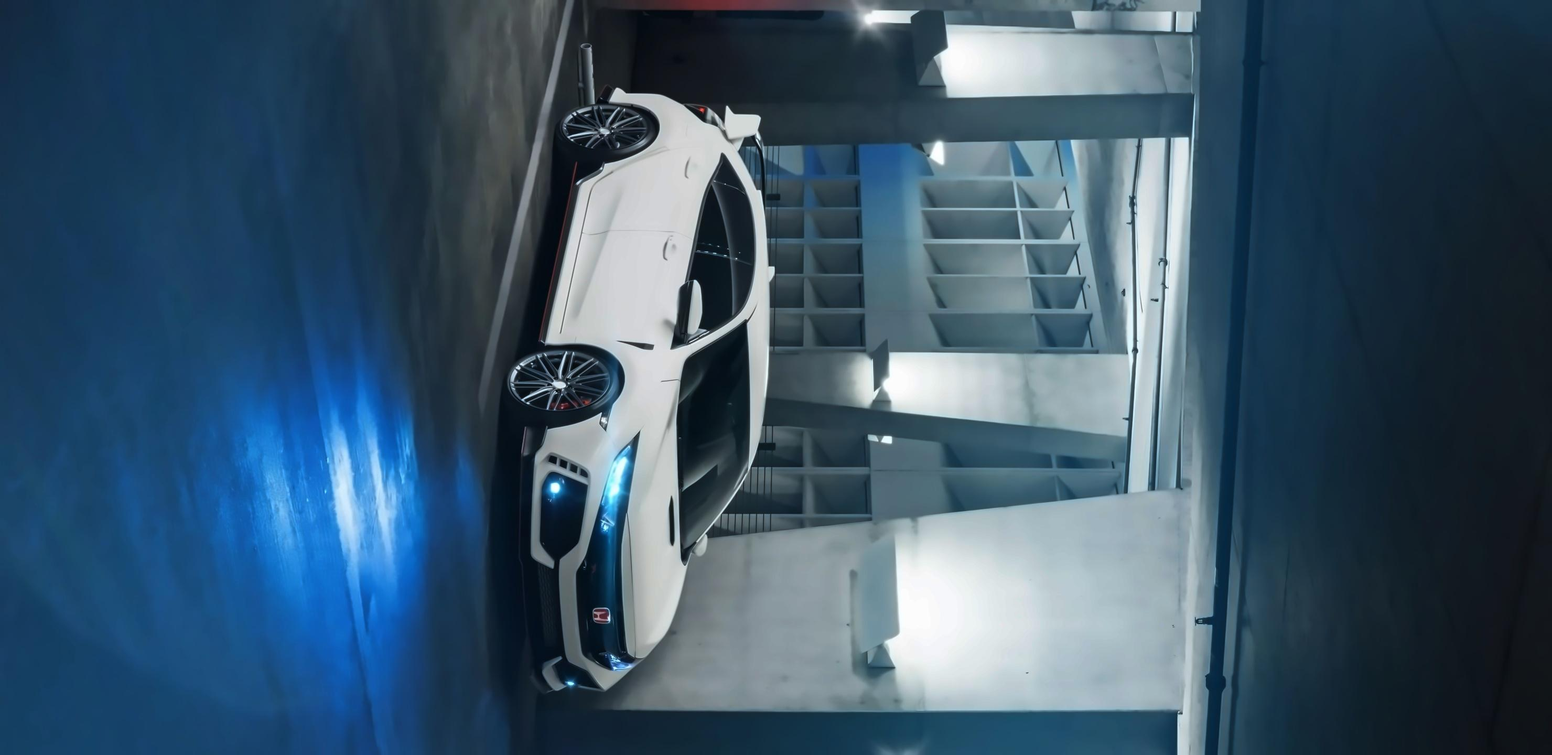Car hood: (616, 374, 689, 663)
Driver-s door - -F-R-: (554, 231, 761, 345)
Fender - -F-R-: (550, 338, 695, 425)
Fender - -R-R-: (592, 108, 726, 177)
Front bumper: (508, 409, 613, 700)
Headlight - -L-: (584, 646, 640, 675)
Headlight - -R-: (592, 422, 646, 538)
Passenger-s door - -R-R-: (571, 142, 763, 252)
Rear bumper: (592, 76, 674, 118)
Rear light - -R-: (679, 95, 721, 132)
Side bumper - -R-: (533, 144, 607, 370)
Side mirror - -L-: (684, 530, 714, 560)
Side mirror - -R-: (671, 272, 711, 347)
